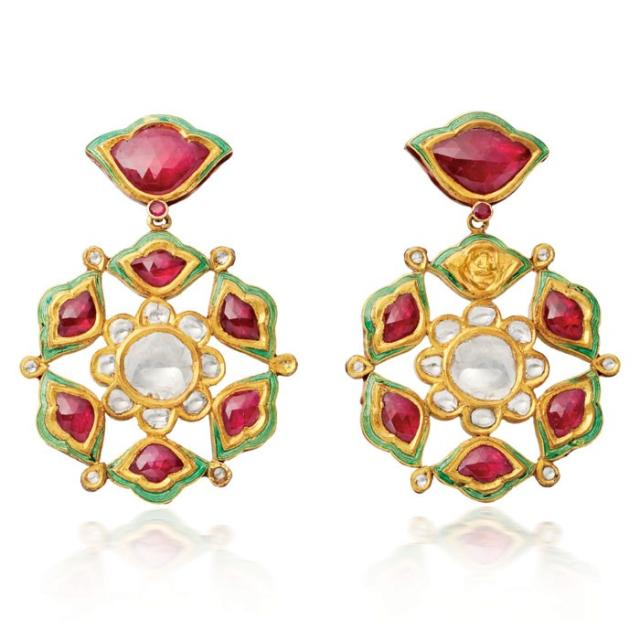missing gem: (454, 245, 511, 289), (278, 355, 295, 372)
